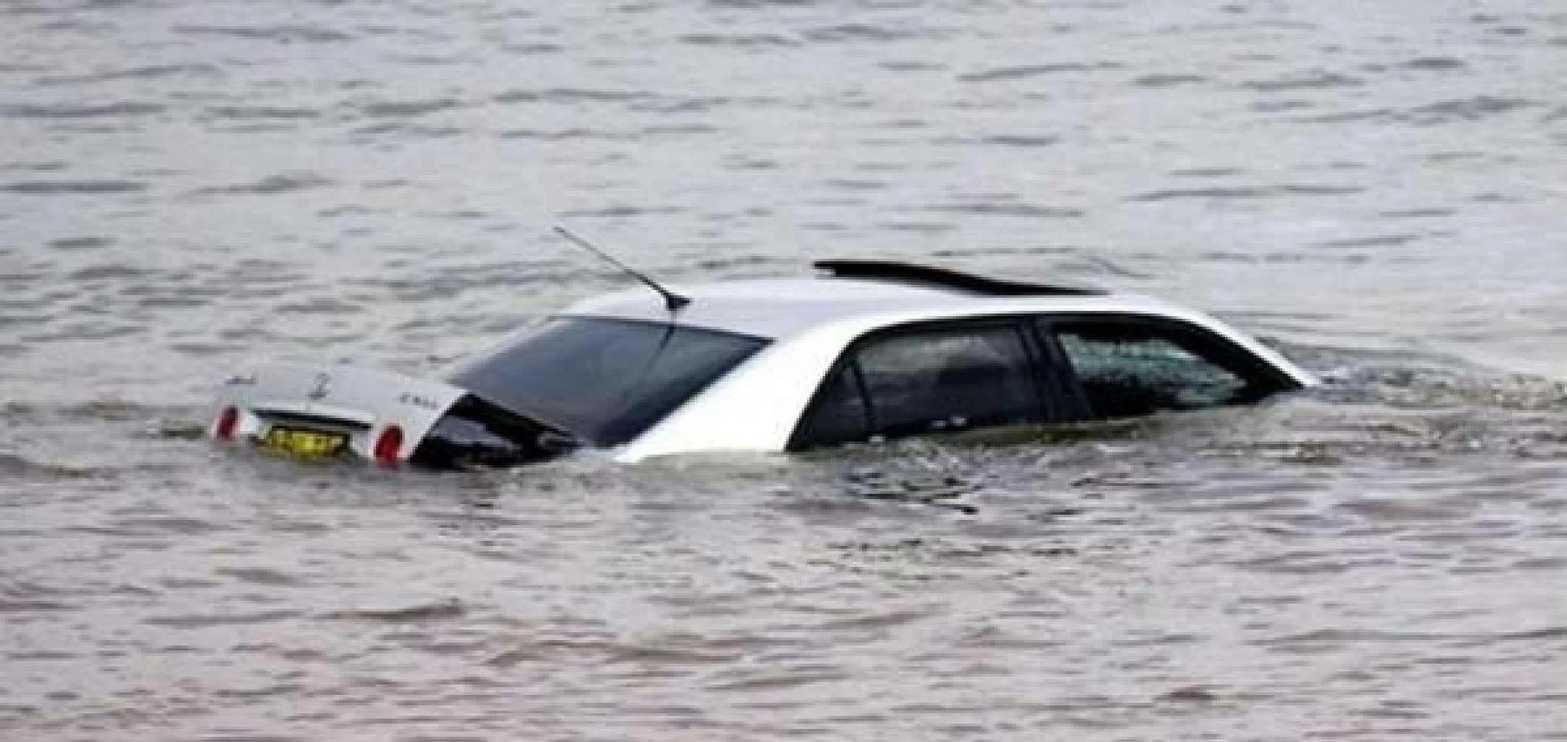water: (0, 0, 1565, 738)
